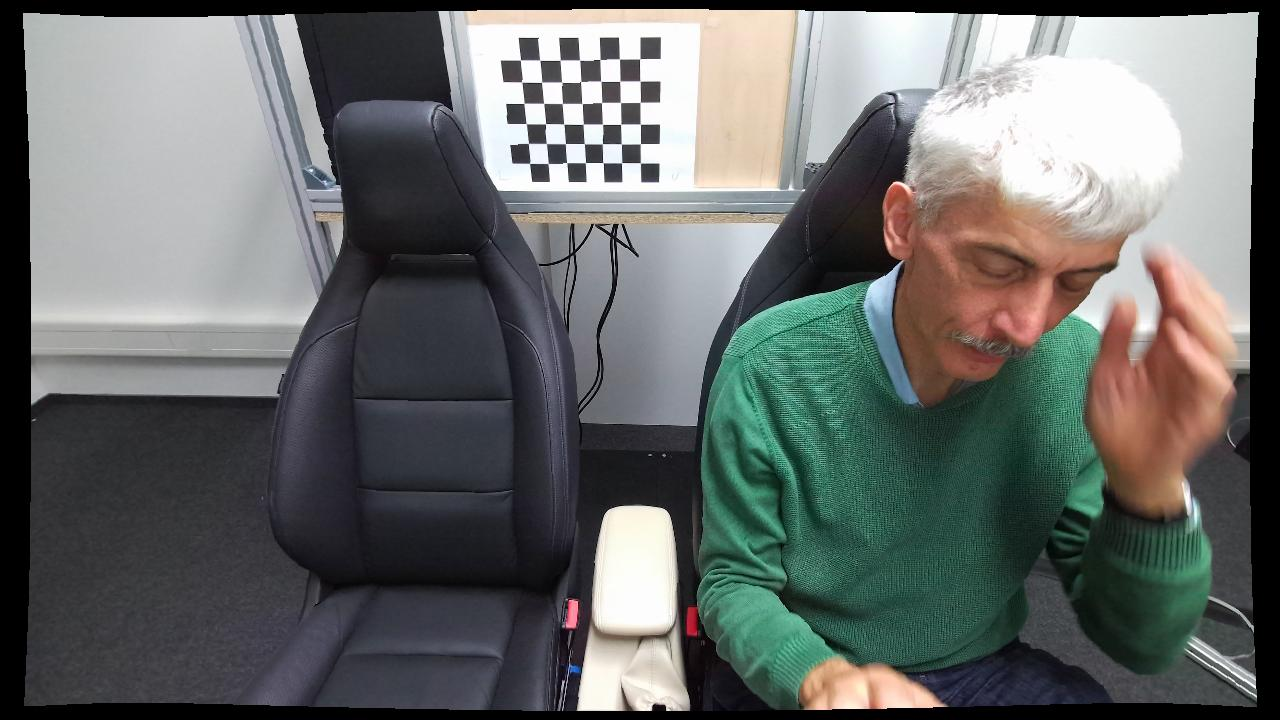Distracted: (694, 62, 1228, 720)
